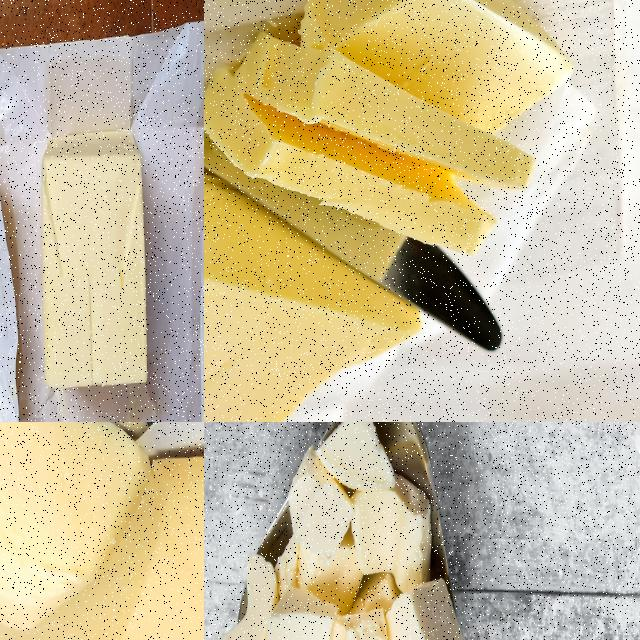butter: (204, 0, 578, 253), (204, 142, 430, 421), (213, 422, 476, 639), (0, 450, 203, 639), (0, 422, 155, 638), (38, 124, 150, 394)
